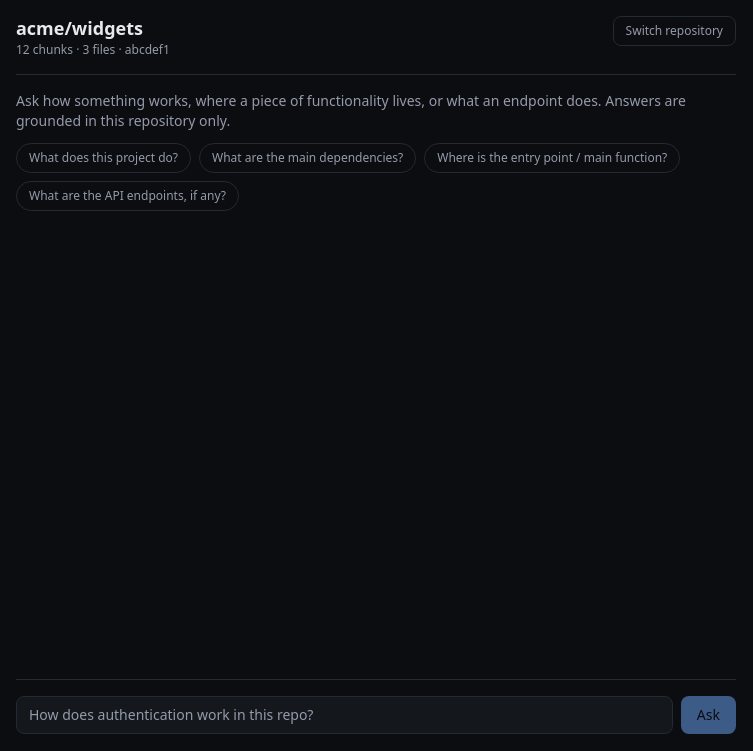
Test: ChatPanel › offers starter questions on an empty chat, and asks one on click
The width and height of the screenshot is (753, 751).
Check: the button "What are the main dependencies?" is shown, box [199,143,416,173]
Check: the button "Where is the entry point / main function?" is shown, box [424,143,680,173]
Click the button "What does this project do?" at (104, 158), box [16,143,191,173]
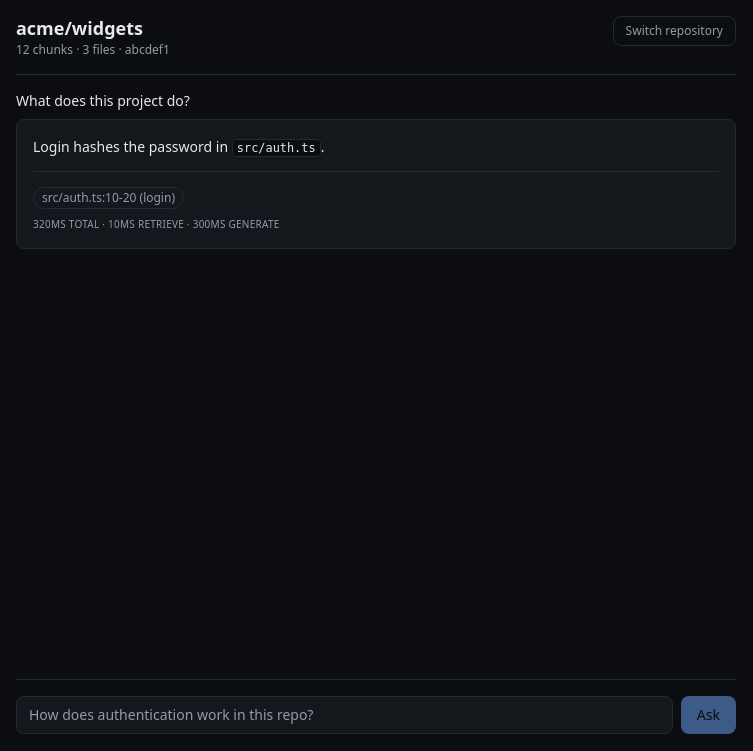
Check: the text "src/auth.ts" is shown, box [232,139,321,157]
Check: the button "What are the main dependencies?" is gone
